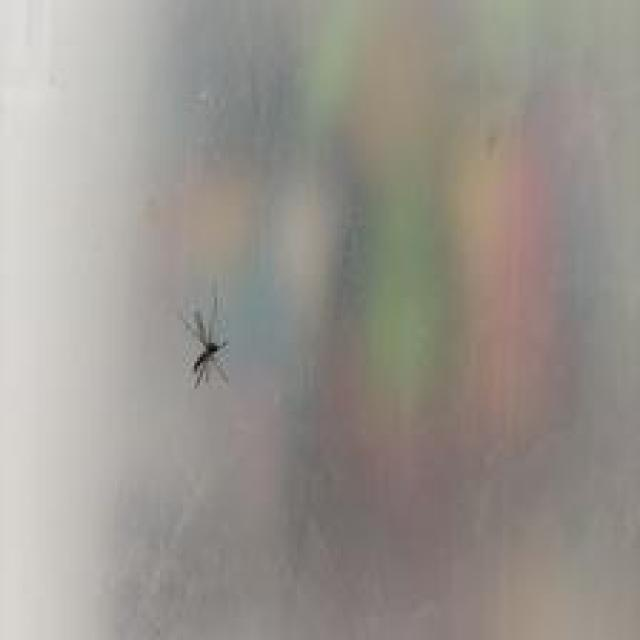Aedes albopictus: (181, 294, 230, 389)
